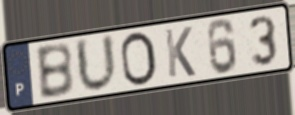3: (247, 13, 279, 67)
6: (205, 17, 239, 78)
B: (33, 41, 76, 102)
K: (163, 25, 197, 80)
O: (119, 30, 159, 89)
U: (73, 31, 120, 95)
